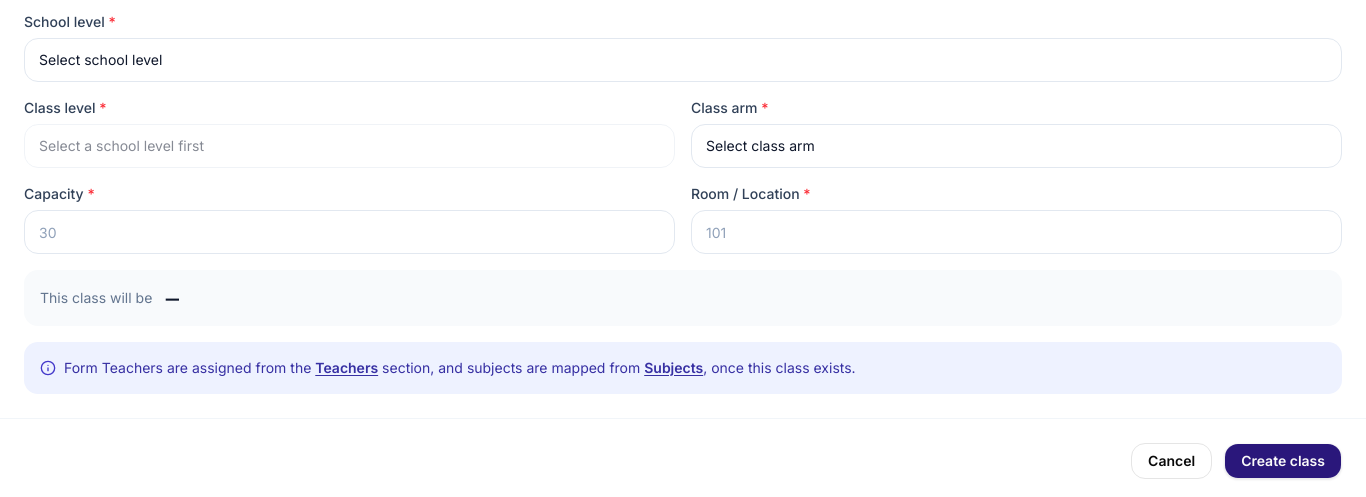
CreateClassForm › school-level → grade-level cascade › enables class level once a school level is chosen
Select "Primary" in the dropdown labelled "School level *" at x=683, y=60, box x1=24 y1=38 x2=1342 y2=82
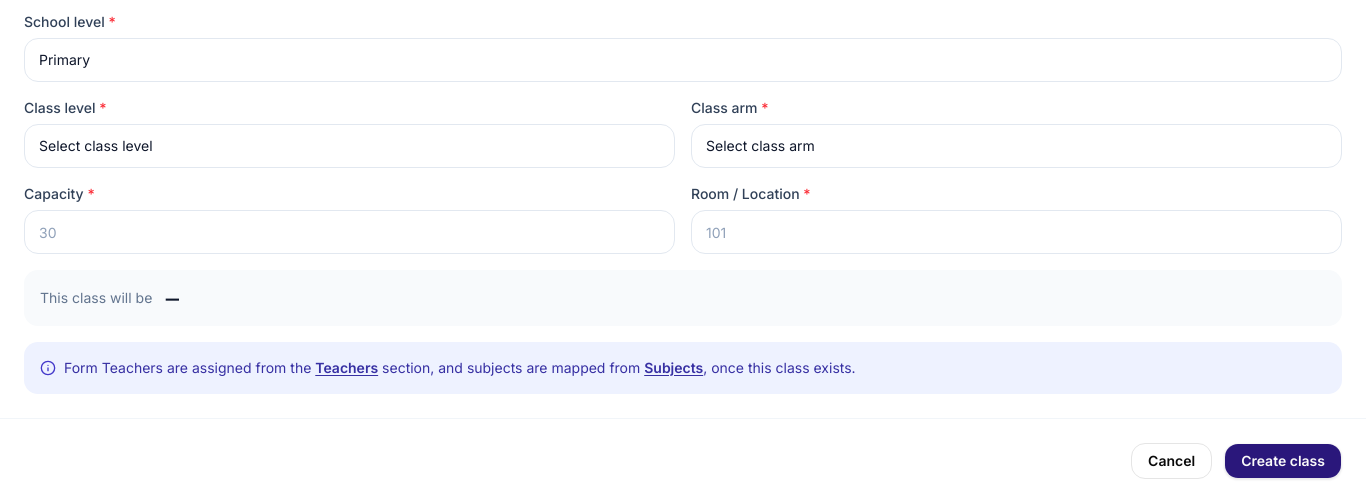
Now the dropdown labelled "Class level *" is enabled, box x1=24 y1=124 x2=675 y2=168
